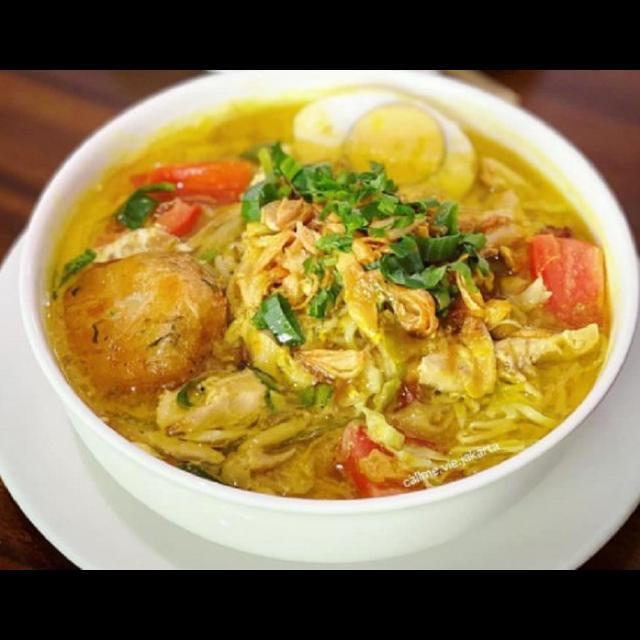Soto: (38, 93, 618, 506)
